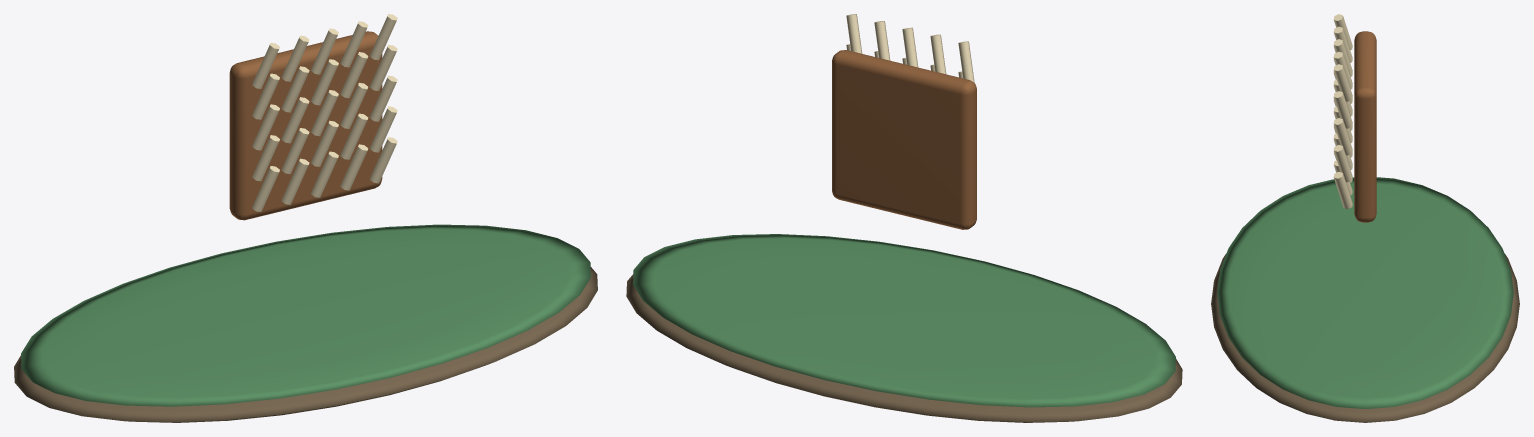
Rendered from fur.glb.
The picture shows the model from 3 angles, left to right: view 1: azimuth 30°, elevation 25°; view 2: azimuth 150°, elevation 25°; view 3: azimuth 270°, elevation 25°; orthographic projection. The views are drawn at different scales.
Visible parts, largest first — view 1: fur_surface_01, fur_surface_02, fur_surface_03, fur_surface_00; view 2: fur_surface_01, fur_surface_02, fur_surface_00, fur_surface_03; view 3: fur_surface_01, fur_surface_00, fur_surface_02, fur_surface_03.
Part boxes in pixels (x1=…): fur_surface_01: x1=21, y1=224, x2=590, y2=406; fur_surface_02: x1=229, y1=31, x2=382, y2=220; fur_surface_03: x1=252, y1=14, x2=397, y2=211; fur_surface_00: x1=14, y1=267, x2=597, y2=422; fur_surface_01: x1=633, y1=234, x2=1175, y2=407; fur_surface_02: x1=832, y1=50, x2=976, y2=229; fur_surface_00: x1=626, y1=274, x2=1182, y2=422; fur_surface_03: x1=846, y1=14, x2=974, y2=82; fur_surface_01: x1=1217, y1=177, x2=1513, y2=408; fur_surface_00: x1=1211, y1=253, x2=1519, y2=422; fur_surface_02: x1=1354, y1=31, x2=1376, y2=222; fur_surface_03: x1=1333, y1=14, x2=1352, y2=209.
Size of the model in its own units: 4.56 by 2.52 by 2.5.
